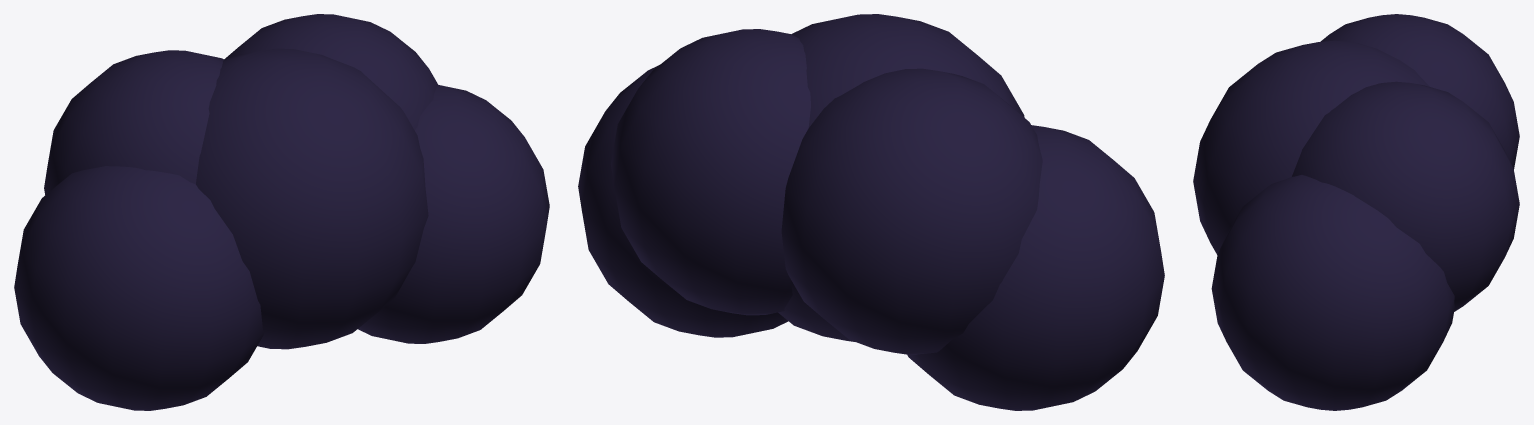
3 views of the same model, side by side, from view 1: azimuth 30°, elevation 25°; view 2: azimuth 150°, elevation 25°; view 3: azimuth 270°, elevation 25° (orthographic). The views are drawn at different scales.
Parts seen in each view (by area): view 1: socket_head.attachment; view 2: socket_head.attachment; view 3: socket_head.attachment.
Boxes of the visible parts, x1,y1,x2,y2 form: socket_head.attachment: [14, 14, 549, 410]; socket_head.attachment: [578, 14, 1164, 410]; socket_head.attachment: [1193, 14, 1519, 410].
Bounding box in the file's own units: 0.88 × 0.51 × 0.53.
